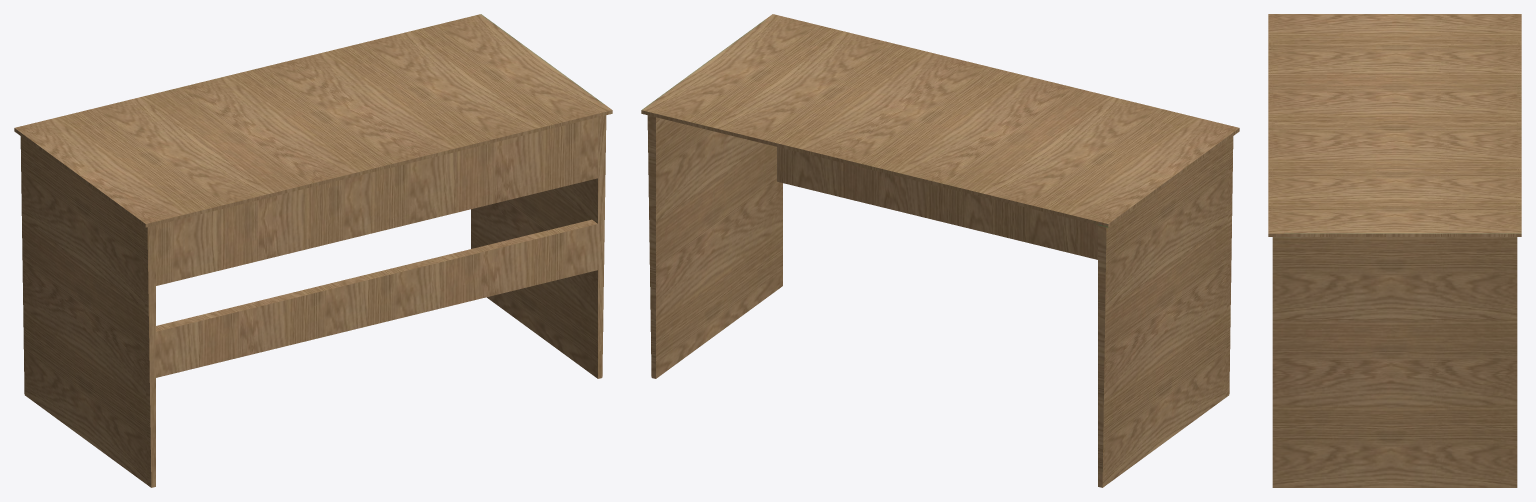
Rendered from Desk.FBX.
3 renders of one model, left to right at view 1: azimuth 30°, elevation 25°; view 2: azimuth 150°, elevation 25°; view 3: azimuth 270°, elevation 25°, orthographic. The views are drawn at different scales.
Parts seen in each view (by area): view 1: Box001; view 2: Box001; view 3: Box001.
Part boxes in pixels (bbox=[...]): Box001: bbox=[14, 14, 612, 487]; Box001: bbox=[641, 14, 1239, 487]; Box001: bbox=[1268, 14, 1521, 487].
Size of the model in its own units: 63.72 by 34.89 by 31.08.
Materials: 1 (1 with a texture image).
